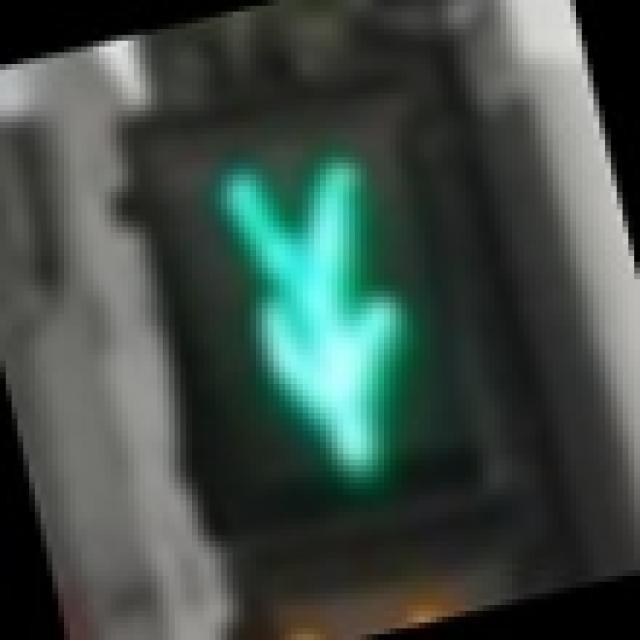geen-crossing: (128, 75, 500, 552)
